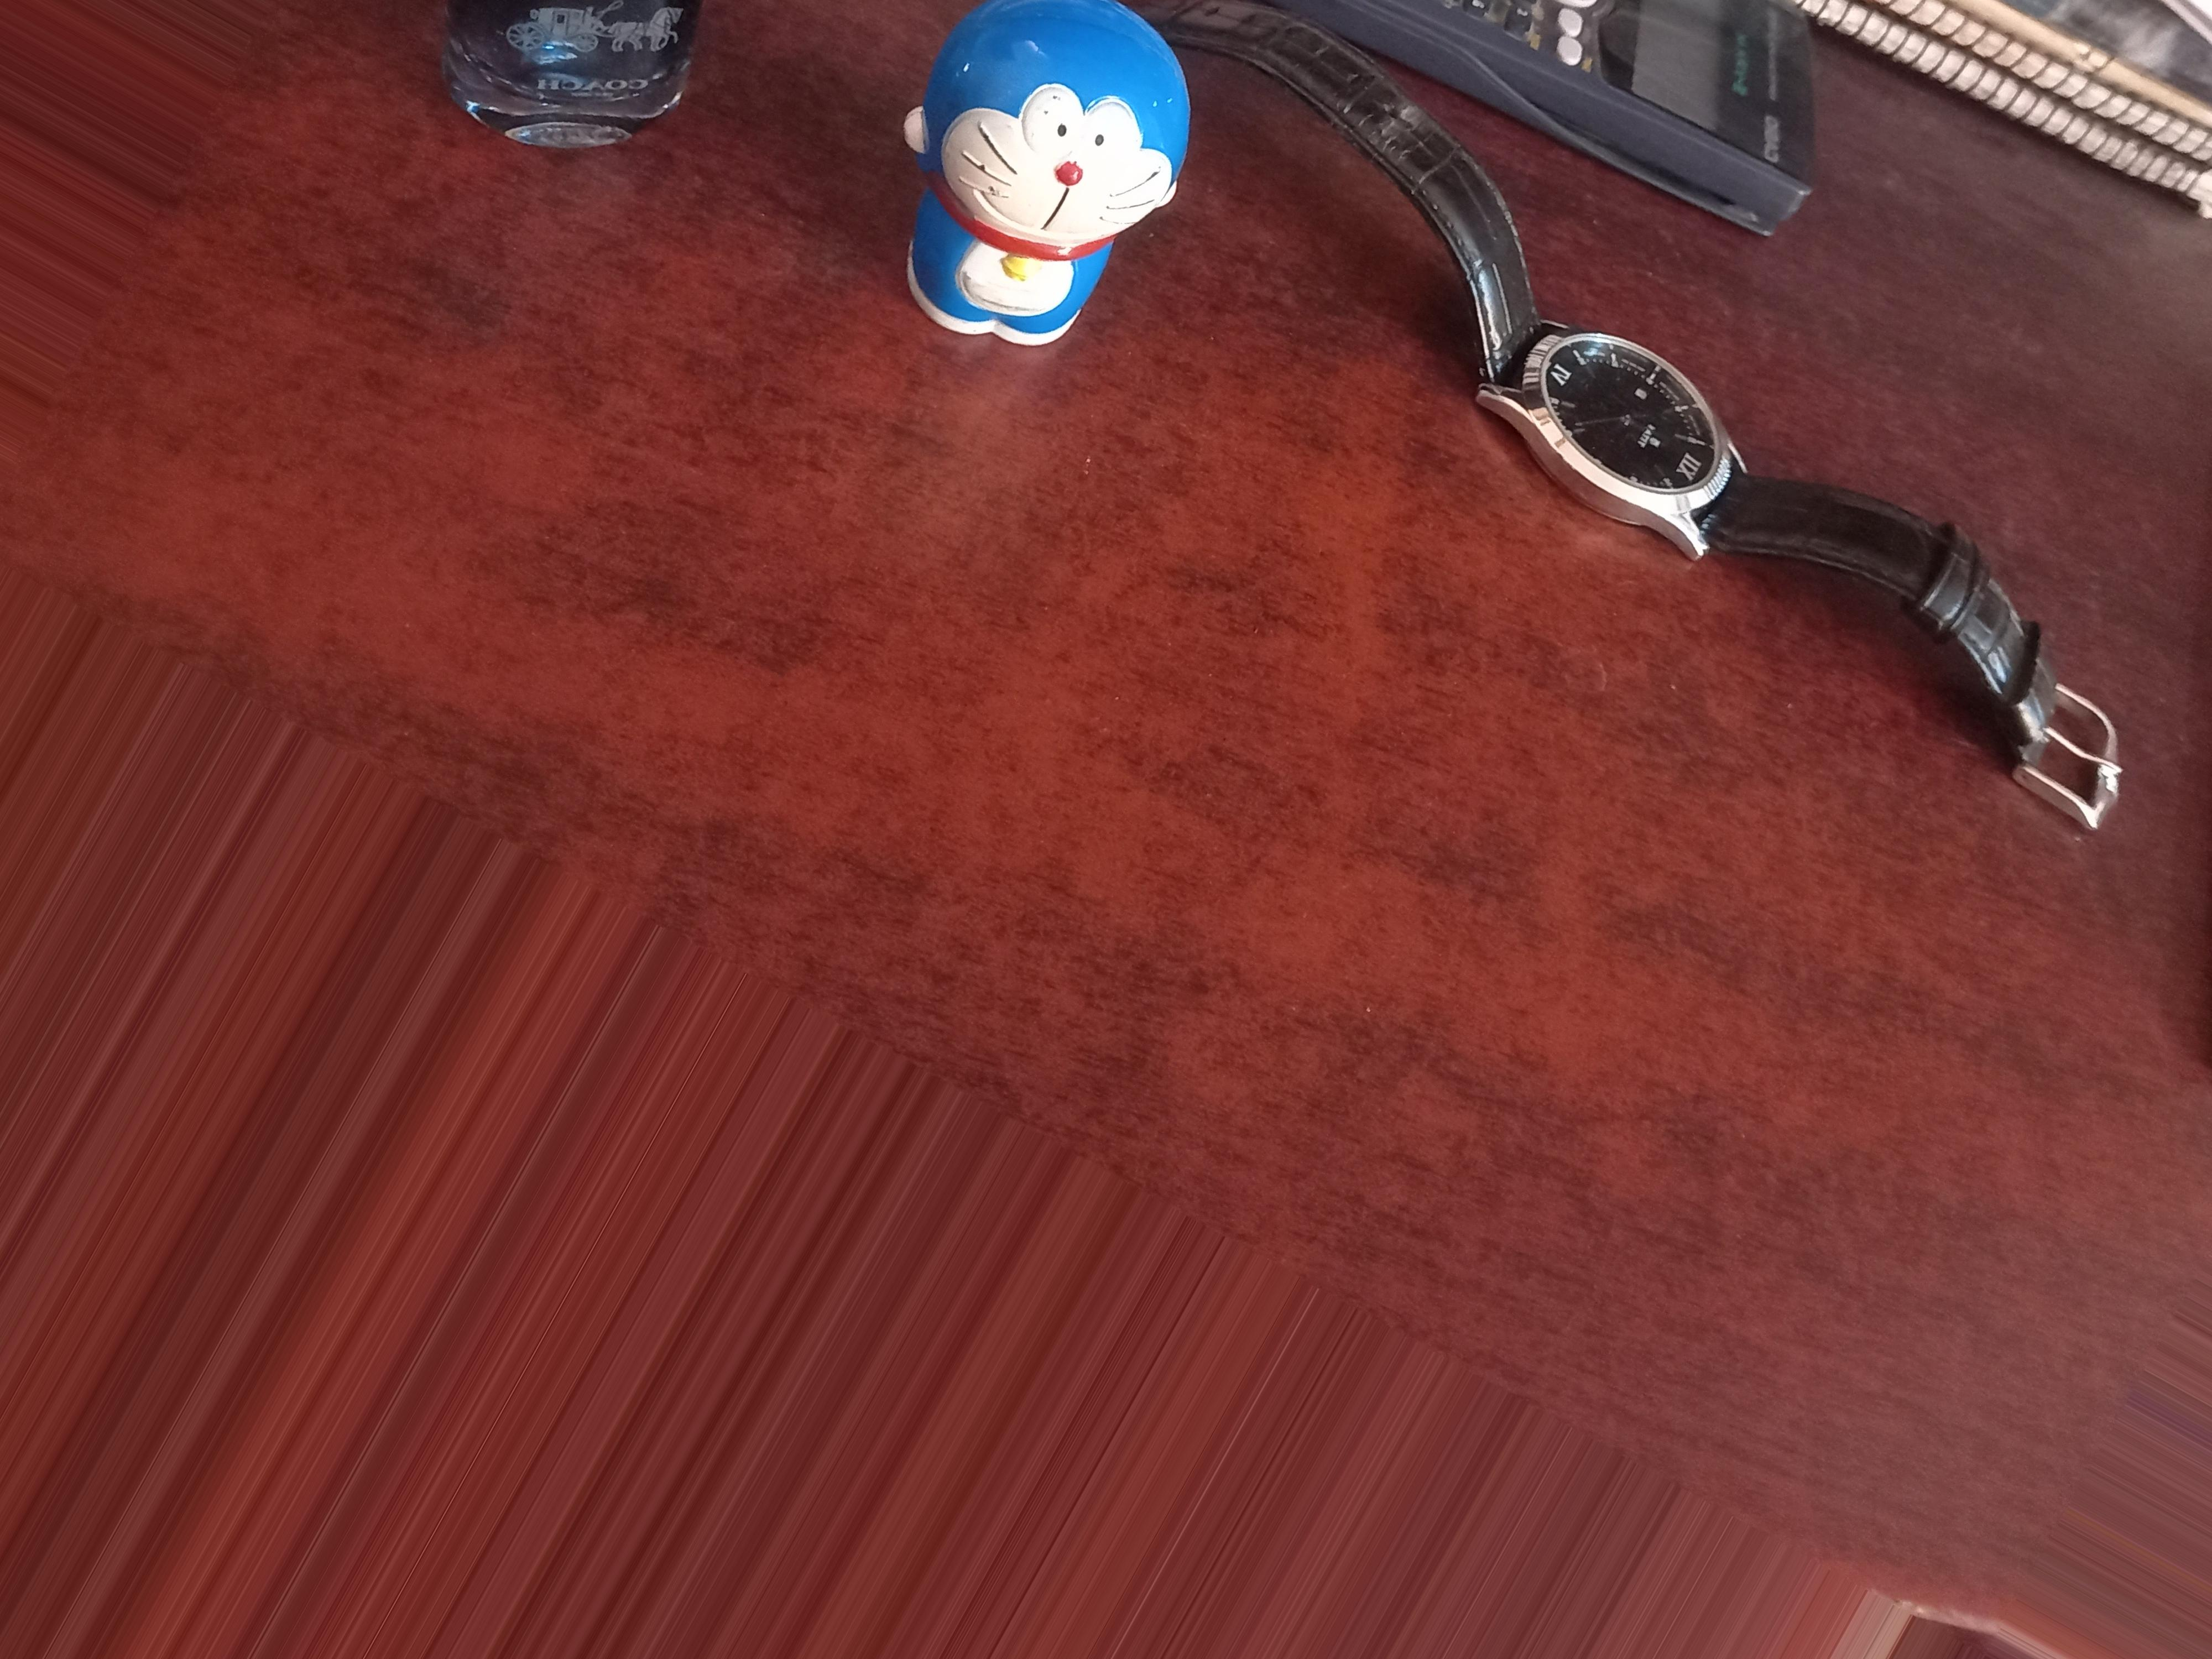calculator: (1468, 0, 1777, 148)
doraemon: (920, 7, 1146, 315)
perfume: (472, 12, 676, 132)
watch: (1519, 281, 1771, 547)
